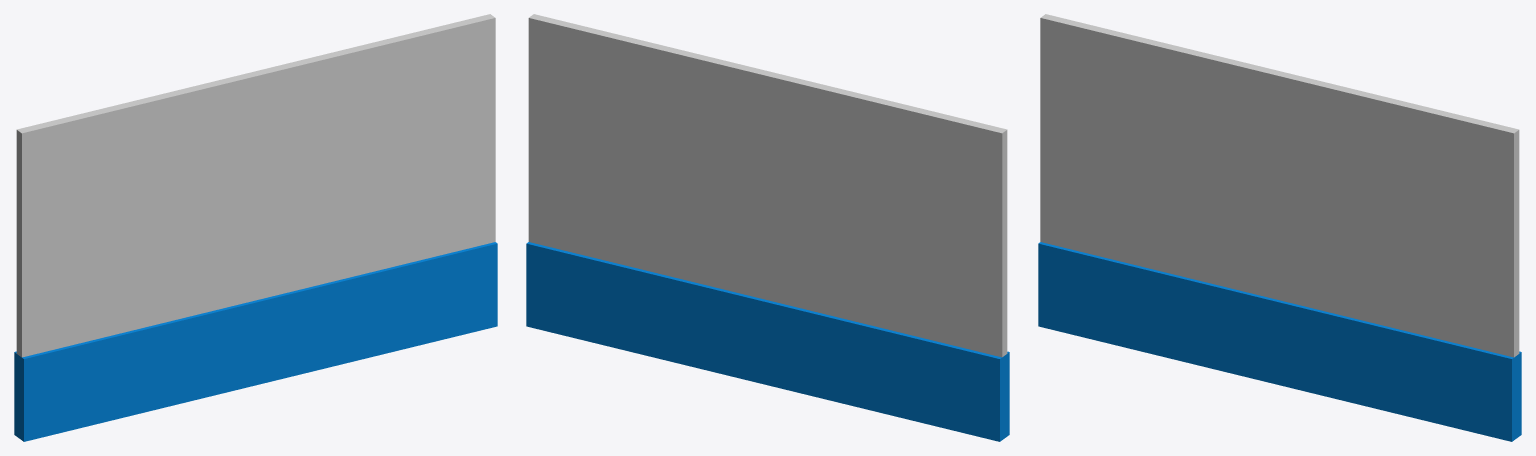
The model's file is wall 1.fbx.
The picture shows the model from 3 angles, left to right: view 1: azimuth 30°, elevation 25°; view 2: azimuth 150°, elevation 25°; view 3: azimuth 330°, elevation 25°; orthographic projection.
Parts seen in each view (by area): view 1: Cube; view 2: Cube; view 3: Cube.
Part boxes in pixels (<box>): Cube: <box>14,14,497,441</box>; Cube: <box>526,14,1009,441</box>; Cube: <box>1038,14,1521,441</box>.
Size of the model in its own units: 549 by 340 by 19.61.
